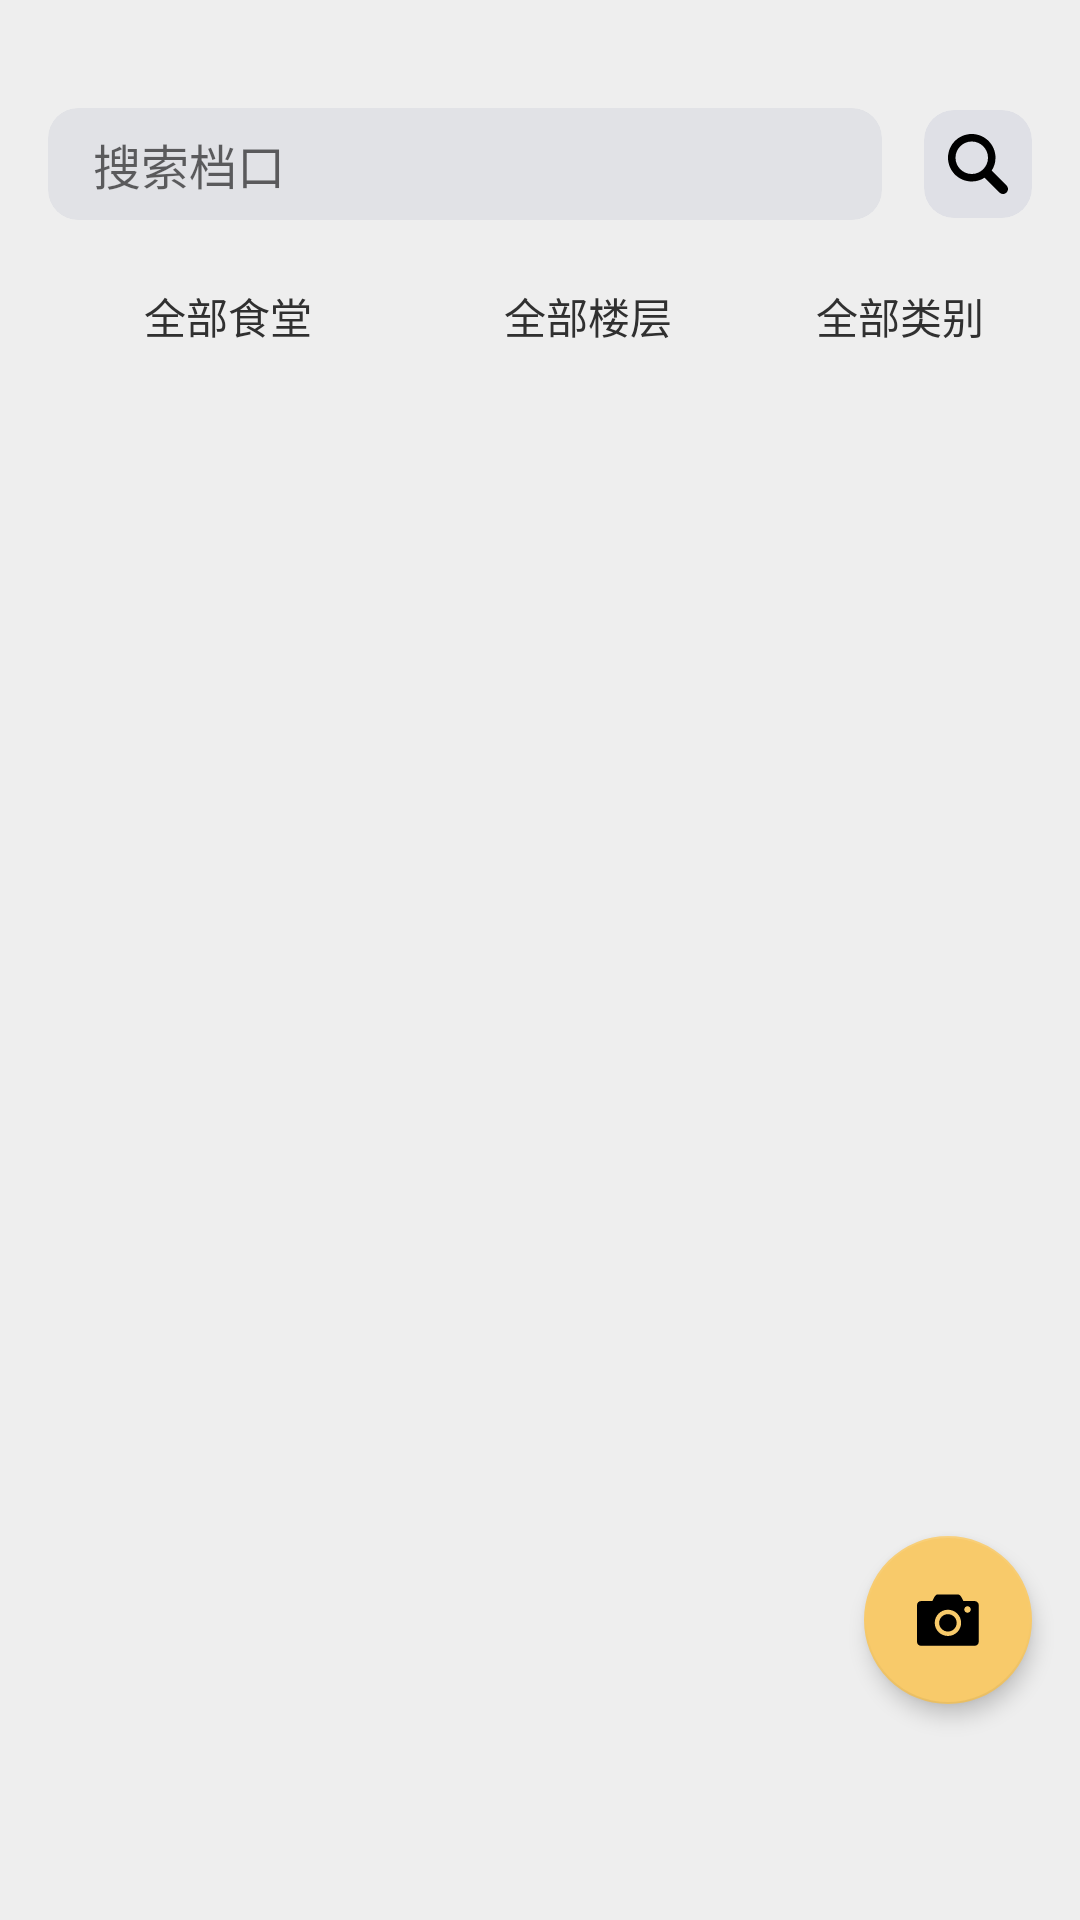

Where to tap for icons on this 1080×1920 app screen, as (x=x, y=y):
camera: (x=948, y=1620)
search: (x=978, y=164)
